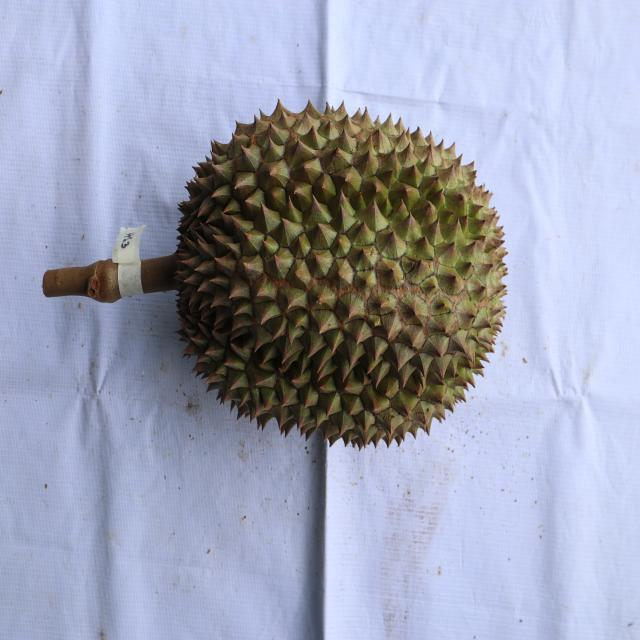mature: (171, 95, 511, 452)
